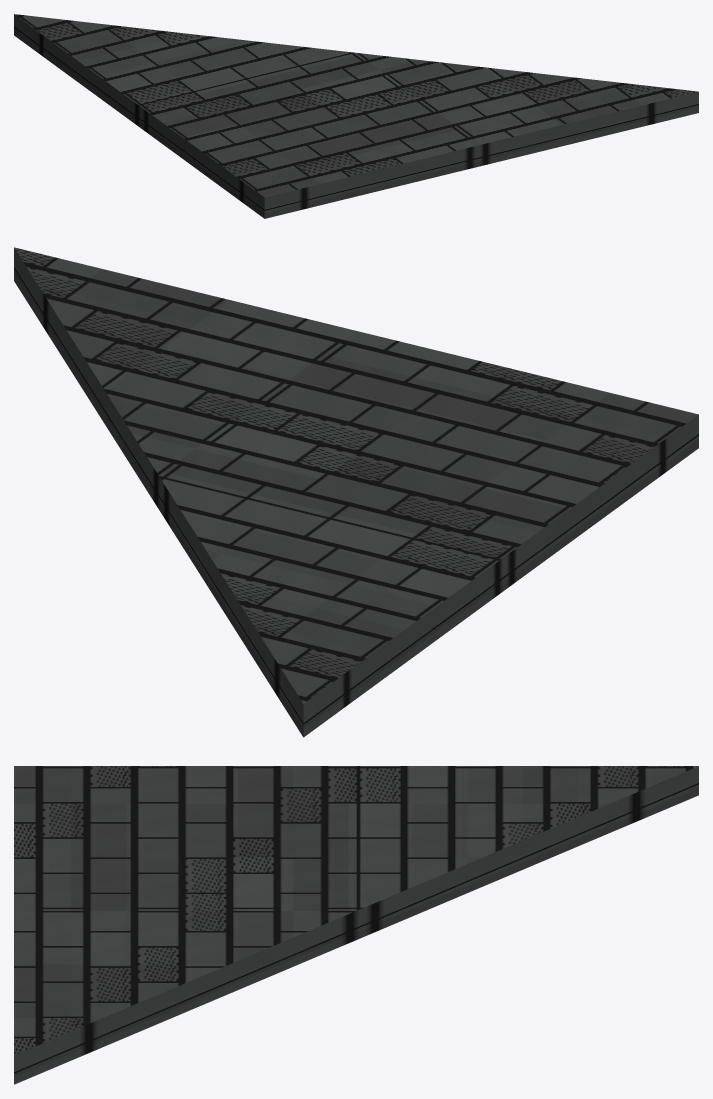
File: theodosian slate roof inverse.glb
The picture shows the model from 3 angles, top to bottom: view 1: azimuth 30°, elevation 25°; view 2: azimuth 150°, elevation 25°; view 3: azimuth 270°, elevation 25°; orthographic projection. The views are drawn at different scales.
Visible parts, largest first — view 1: Theodosian_slate_inverse; view 2: Theodosian_slate_inverse; view 3: Theodosian_slate_inverse.
Boxes of the visible parts, x1,y1,x2,y2 form: Theodosian_slate_inverse: (14,14,698,218); Theodosian_slate_inverse: (14,247,698,737); Theodosian_slate_inverse: (14,766,698,1084).
Size of the model in its own units: 1 by 0.047 by 1.
1 material, 1 textured.
